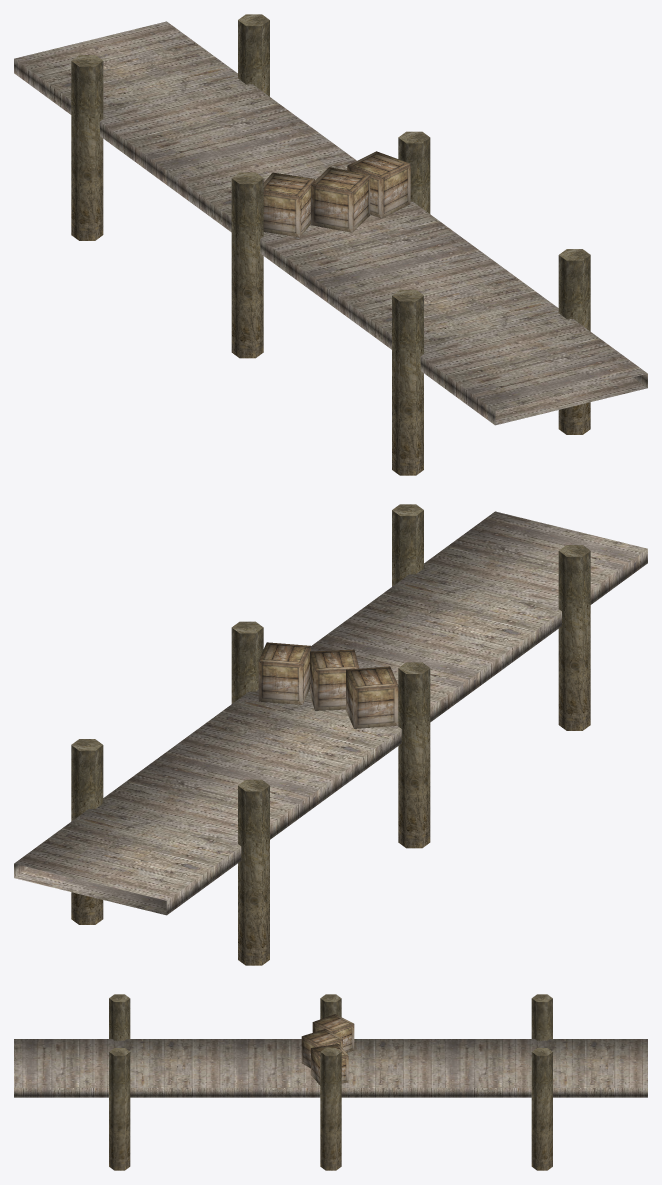
File: Bridge.I-Tile.Obst.Crates.fbx
3 renders of one model, top to bottom at view 1: azimuth 30°, elevation 25°; view 2: azimuth 150°, elevation 25°; view 3: azimuth 270°, elevation 25°, orthographic. The views are drawn at different scales.
Parts seen in each view (by area): view 1: Bridge.I-Tile.Obst.Crates; view 2: Bridge.I-Tile.Obst.Crates; view 3: Bridge.I-Tile.Obst.Crates.
Part boxes in pixels (<box>): Bridge.I-Tile.Obst.Crates: <box>14,14,647,475</box>; Bridge.I-Tile.Obst.Crates: <box>14,504,647,965</box>; Bridge.I-Tile.Obst.Crates: <box>14,994,647,1170</box>.
Bounding box in the file's own units: 68.66 × 59.95 × 300.
